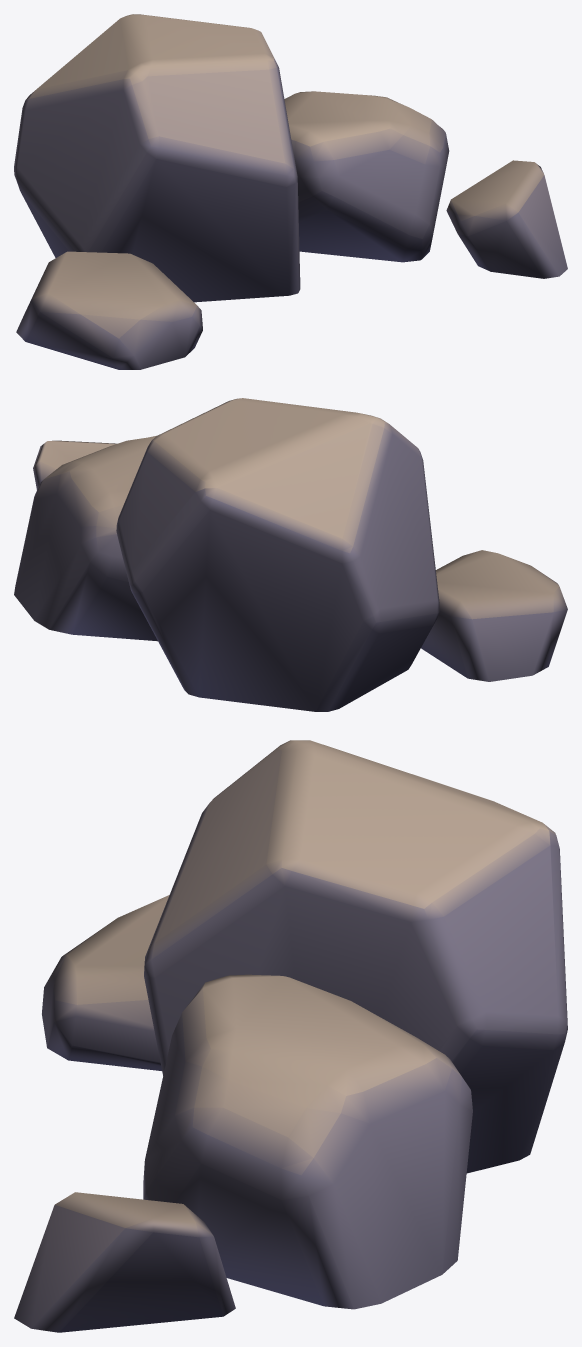
The model's file is RockCluster.fbx.
3 views of the same model, one above another, from view 1: azimuth 30°, elevation 25°; view 2: azimuth 150°, elevation 25°; view 3: azimuth 270°, elevation 25° (orthographic). The views are drawn at different scales.
Visible parts, largest first — view 1: RockCluster; view 2: RockCluster; view 3: RockCluster.
Part boxes in pixels (x1=…): RockCluster: x1=14, y1=14, x2=567, y2=369; RockCluster: x1=14, y1=398, x2=567, y2=711; RockCluster: x1=14, y1=740, x2=567, y2=1332.
Bounding box in the file's own units: 3 × 1.31 × 1.91.
